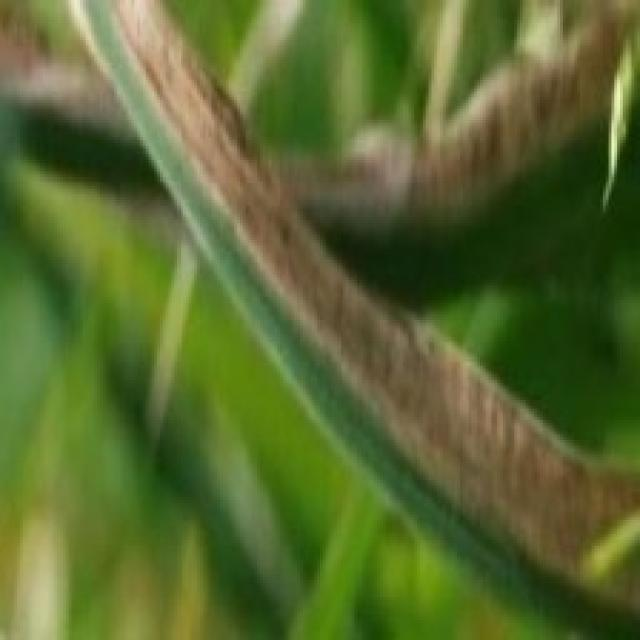Rice___Bacterial_Leaf_Blight: (61, 0, 637, 637)
